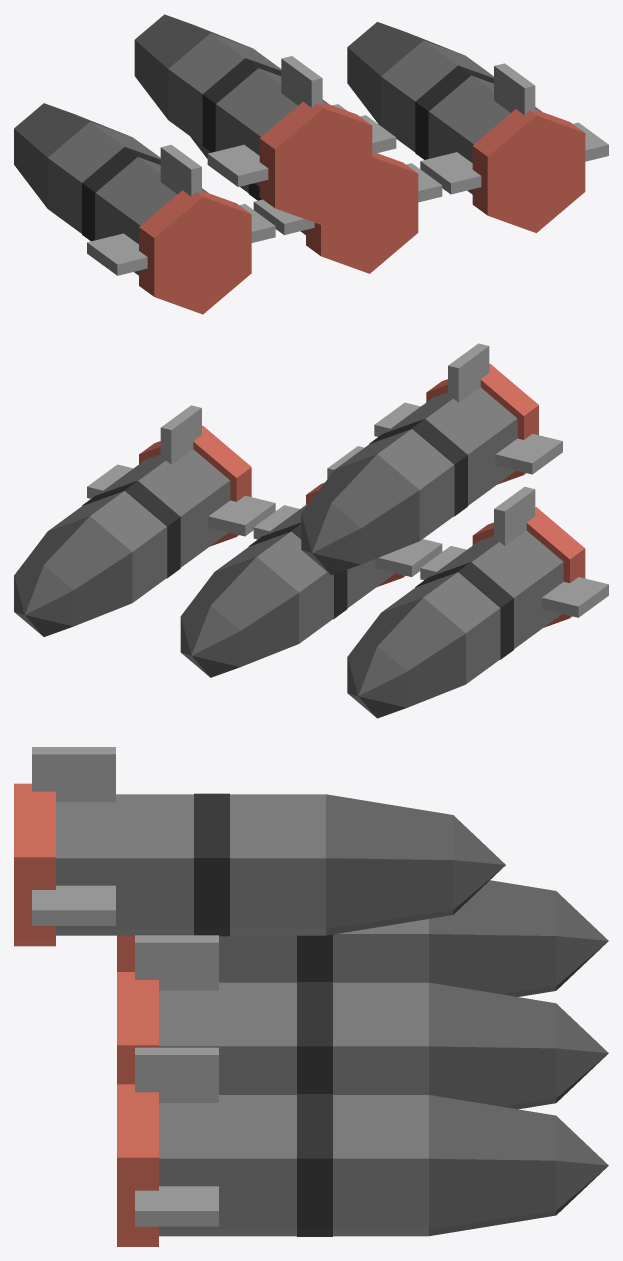
File: ce_ammo2_minirocket_hec_b.obj
3 renders of one model, top to bottom at view 1: azimuth 30°, elevation 25°; view 2: azimuth 150°, elevation 25°; view 3: azimuth 270°, elevation 25°, orthographic. The views are drawn at different scales.
Parts seen in each view (by area): view 1: ce_ammo2_minirocket_hec_b_16, ce_ammo2_minirocket_hec_b_24, ce_ammo2_minirocket_hec_b_0, ce_ammo2_minirocket_hec_b_8, ce_ammo2_minirocket_hec_b_27, ce_ammo2_minirocket_hec_b_3, ce_ammo2_minirocket_hec_b_19, ce_ammo2_minirocket_hec_b_1, ce_ammo2_minirocket_hec_b_25, ce_ammo2_minirocket_hec_b_17, ce_ammo2_minirocket_hec_b_28, ce_ammo2_minirocket_hec_b_4 (+11 smaller); view 2: ce_ammo2_minirocket_hec_b_20, ce_ammo2_minirocket_hec_b_28, ce_ammo2_minirocket_hec_b_4, ce_ammo2_minirocket_hec_b_12, ce_ammo2_minirocket_hec_b_17, ce_ammo2_minirocket_hec_b_25, ce_ammo2_minirocket_hec_b_1, ce_ammo2_minirocket_hec_b_19, ce_ammo2_minirocket_hec_b_27, ce_ammo2_minirocket_hec_b_3, ce_ammo2_minirocket_hec_b_11, ce_ammo2_minirocket_hec_b_13 (+18 smaller); view 3: ce_ammo2_minirocket_hec_b_17, ce_ammo2_minirocket_hec_b_25, ce_ammo2_minirocket_hec_b_28, ce_ammo2_minirocket_hec_b_20, ce_ammo2_minirocket_hec_b_12, ce_ammo2_minirocket_hec_b_19, ce_ammo2_minirocket_hec_b_27, ce_ammo2_minirocket_hec_b_4, ce_ammo2_minirocket_hec_b_9, ce_ammo2_minirocket_hec_b_11, ce_ammo2_minirocket_hec_b_24, ce_ammo2_minirocket_hec_b_16 (+17 smaller).
Part boxes in pixels (x1=…): ce_ammo2_minirocket_hec_b_16: x1=472, y1=109, x2=585, y2=233; ce_ammo2_minirocket_hec_b_24: x1=259, y1=102, x2=372, y2=225; ce_ammo2_minirocket_hec_b_0: x1=139, y1=190, x2=251, y2=314; ce_ammo2_minirocket_hec_b_8: x1=306, y1=153, x2=418, y2=273; ce_ammo2_minirocket_hec_b_27: x1=168, y1=33, x2=281, y2=144; ce_ammo2_minirocket_hec_b_3: x1=47, y1=122, x2=160, y2=233; ce_ammo2_minirocket_hec_b_19: x1=381, y1=40, x2=493, y2=152; ce_ammo2_minirocket_hec_b_1: x1=95, y1=157, x2=208, y2=275; ce_ammo2_minirocket_hec_b_25: x1=216, y1=68, x2=329, y2=186; ce_ammo2_minirocket_hec_b_17: x1=429, y1=75, x2=541, y2=194; ce_ammo2_minirocket_hec_b_28: x1=134, y1=14, x2=248, y2=119; ce_ammo2_minirocket_hec_b_4: x1=14, y1=103, x2=127, y2=208; ce_ammo2_minirocket_hec_b_20: x1=14, y1=516, x2=132, y2=626; ce_ammo2_minirocket_hec_b_28: x1=301, y1=454, x2=419, y2=564; ce_ammo2_minirocket_hec_b_4: x1=348, y1=597, x2=465, y2=707; ce_ammo2_minirocket_hec_b_12: x1=181, y1=557, x2=298, y2=666; ce_ammo2_minirocket_hec_b_17: x1=98, y1=449, x2=230, y2=567; ce_ammo2_minirocket_hec_b_25: x1=385, y1=387, x2=517, y2=505; ce_ammo2_minirocket_hec_b_1: x1=431, y1=530, x2=563, y2=648; ce_ammo2_minirocket_hec_b_19: x1=48, y1=490, x2=167, y2=602; ce_ammo2_minirocket_hec_b_27: x1=336, y1=429, x2=454, y2=540; ce_ammo2_minirocket_hec_b_3: x1=382, y1=572, x2=500, y2=683; ce_ammo2_minirocket_hec_b_11: x1=215, y1=531, x2=333, y2=643; ce_ammo2_minirocket_hec_b_13: x1=180, y1=605, x2=240, y2=677; ce_ammo2_minirocket_hec_b_17: x1=159, y1=1095, x2=296, y2=1236; ce_ammo2_minirocket_hec_b_25: x1=56, y1=794, x2=193, y2=935; ce_ammo2_minirocket_hec_b_28: x1=326, y1=794, x2=453, y2=935; ce_ammo2_minirocket_hec_b_20: x1=429, y1=1095, x2=556, y2=1236; ce_ammo2_minirocket_hec_b_12: x1=429, y1=982, x2=556, y2=1109; ce_ammo2_minirocket_hec_b_19: x1=333, y1=1095, x2=428, y2=1236; ce_ammo2_minirocket_hec_b_27: x1=230, y1=794, x2=325, y2=935; ce_ammo2_minirocket_hec_b_4: x1=429, y1=880, x2=556, y2=996; ce_ammo2_minirocket_hec_b_9: x1=159, y1=982, x2=296, y2=1094; ce_ammo2_minirocket_hec_b_11: x1=333, y1=982, x2=428, y2=1094; ce_ammo2_minirocket_hec_b_24: x1=14, y1=783, x2=55, y2=946; ce_ammo2_minirocket_hec_b_16: x1=117, y1=1084, x2=158, y2=1246.
Bounding box in the file's own units: 0.914 × 0.4216 × 0.694.
